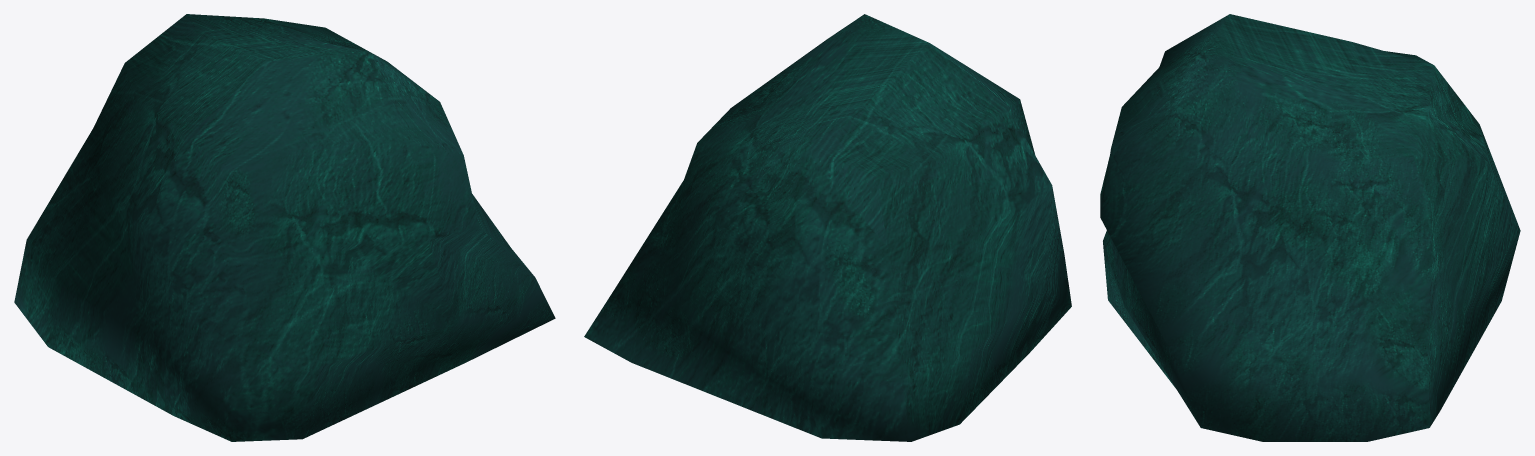
The model's file is Stone.fbx.
The picture shows the model from 3 angles, left to right: view 1: azimuth 30°, elevation 25°; view 2: azimuth 150°, elevation 25°; view 3: azimuth 270°, elevation 25°; orthographic projection. The views are drawn at different scales.
Parts seen in each view (by area): view 1: Stone; view 2: Stone; view 3: Stone.
Boxes of the visible parts, box(x1,y1,x2,y2) form: Stone: box(14, 14, 555, 441); Stone: box(584, 14, 1071, 441); Stone: box(1100, 14, 1520, 441).
Bounding box in the file's own units: 282 × 231 × 268.
